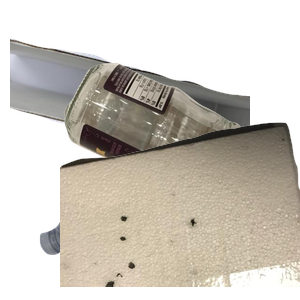cardboard: (10, 35, 250, 188)
glass: (62, 60, 300, 240)
plastic: (37, 144, 265, 300)
trash: (60, 120, 300, 300)
